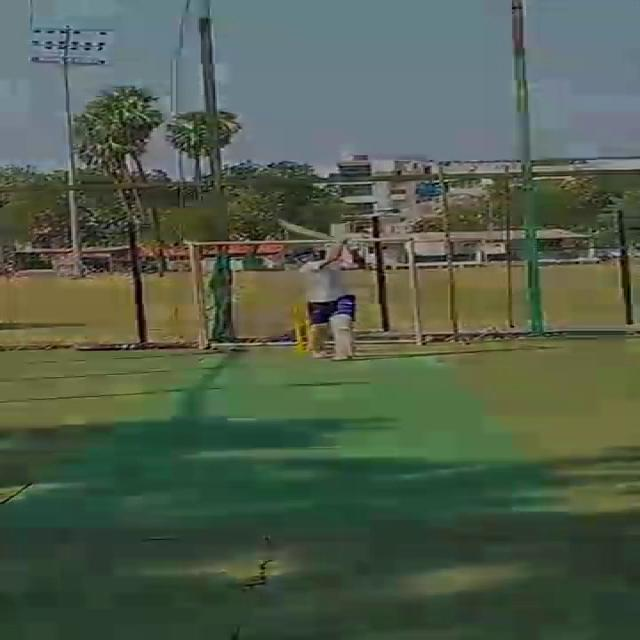batsman: (267, 213, 398, 369)
